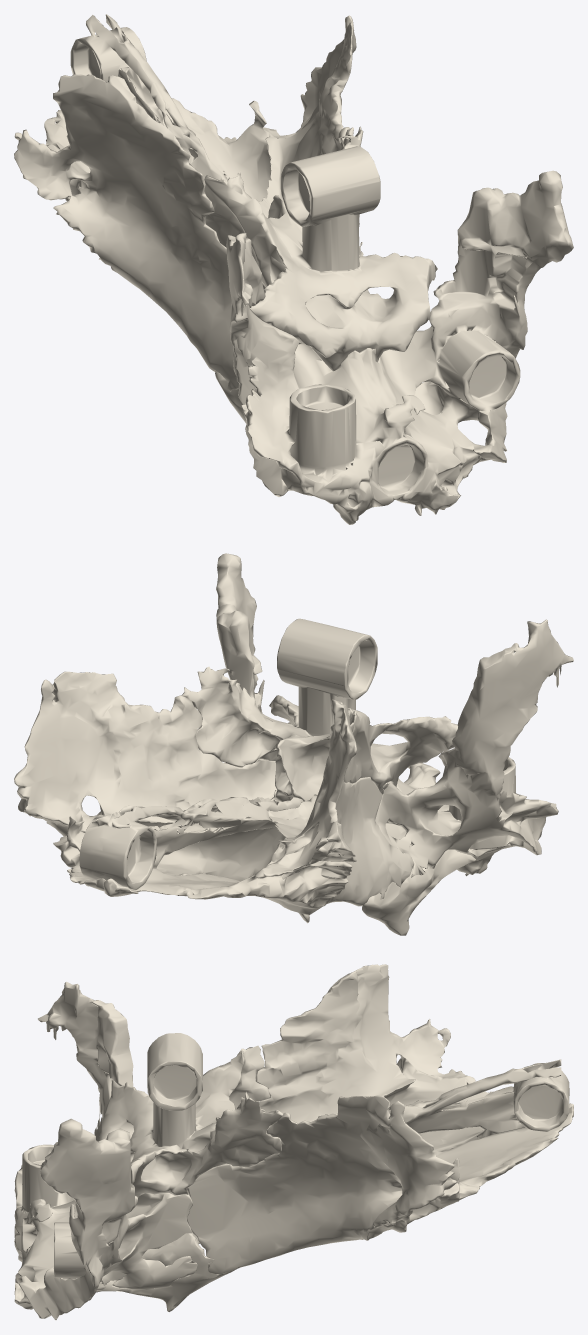
File: canine-skull-base-cuhl9-quick-6f9b364ff8bf.glb
3 renders of one model, top to bottom at view 1: azimuth 30°, elevation 25°; view 2: azimuth 150°, elevation 25°; view 3: azimuth 270°, elevation 25°, orthographic. The views are drawn at different scales.
Parts seen in each view (by area): view 1: basisphenoid, palatine-left, presphenoid, palatine-right, vomer; view 2: palatine-right, basisphenoid, presphenoid, palatine-left, vomer, pterygoid-left; view 3: palatine-right, basisphenoid, palatine-left, presphenoid, vomer, pterygoid-right.
Part boxes in pixels (box(x1,y1,x2,y2)): basisphenoid: box(226, 170, 573, 524); palatine-left: box(14, 74, 265, 391); presphenoid: box(204, 126, 437, 371); palatine-right: box(149, 15, 356, 217); vomer: box(70, 14, 227, 212); palatine-right: box(14, 671, 285, 892); basisphenoid: box(216, 553, 573, 877); presphenoid: box(181, 618, 457, 801); palatine-left: box(103, 699, 413, 914); vomer: box(79, 797, 303, 889); pterygoid-left: box(362, 822, 475, 935); palatine-right: box(186, 1095, 573, 1274); basisphenoid: box(14, 981, 197, 1320); palatine-left: box(256, 964, 573, 1151); presphenoid: box(97, 1033, 283, 1196); vomer: box(281, 1059, 569, 1150); pterygoid-right: box(96, 1232, 236, 1311).
Bounding box in the file's own units: 1.19 × 1.12 × 2.
